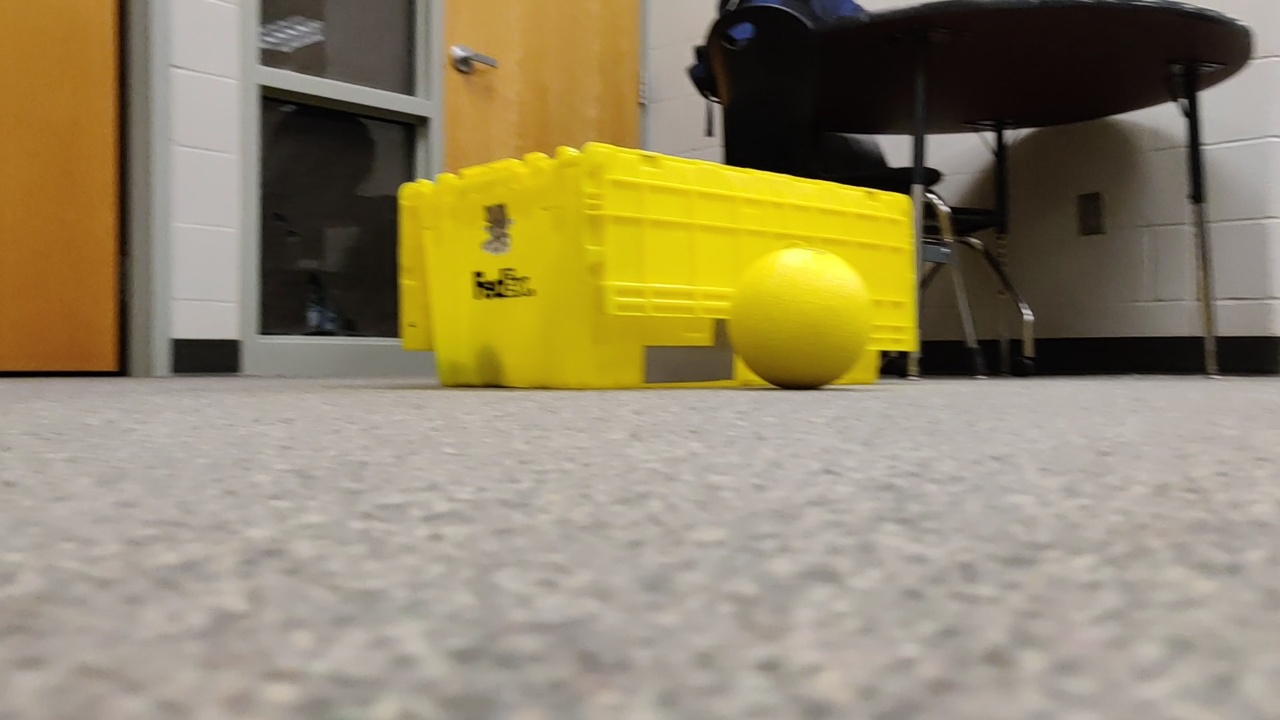Ball: (730, 247, 865, 387)
